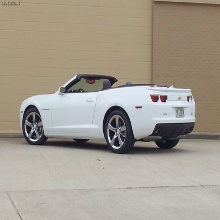no damage: (19, 74, 197, 153)
